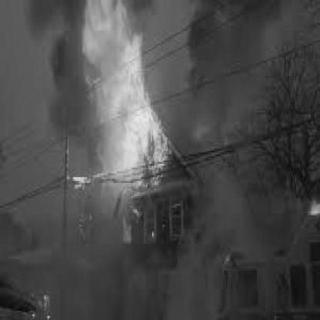Smoke: (36, 6, 87, 134)
